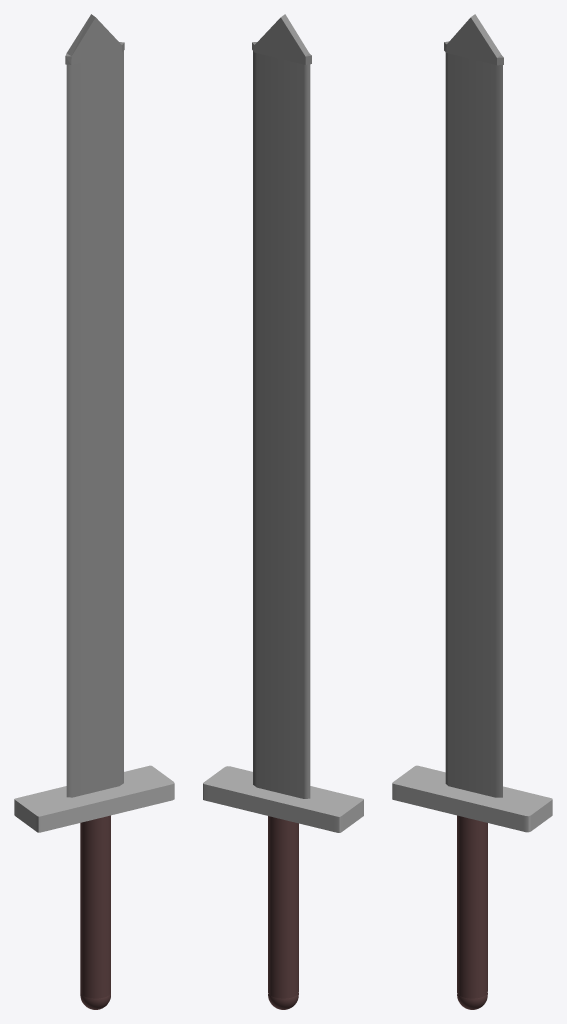
The model's file is IronSword.fbx.
The picture shows the model from 3 angles, left to right: view 1: azimuth 30°, elevation 25°; view 2: azimuth 150°, elevation 25°; view 3: azimuth 330°, elevation 25°; orthographic projection.
Visible parts, largest first — view 1: pCube2, pCylinder1, pCube1, pCube3; view 2: pCube2, pCylinder1, pCube1, pCube3; view 3: pCube2, pCylinder1, pCube1, pCube3.
Part boxes in pixels (<box>): pCube2: <box>66,51,123,797</box>; pCylinder1: <box>80,815,110,998</box>; pCube1: <box>14,765,174,832</box>; pCube3: <box>65,14,124,64</box>; pCube2: <box>253,51,310,798</box>; pCylinder1: <box>268,816,298,998</box>; pCube1: <box>203,766,363,832</box>; pCube3: <box>252,14,311,64</box>; pCube2: <box>445,53,502,797</box>; pCylinder1: <box>457,815,487,998</box>; pCube1: <box>392,765,552,832</box>; pCube3: <box>444,14,503,65</box>.
Size of the model in its own units: 1.57 by 10.82 by 0.4886.
